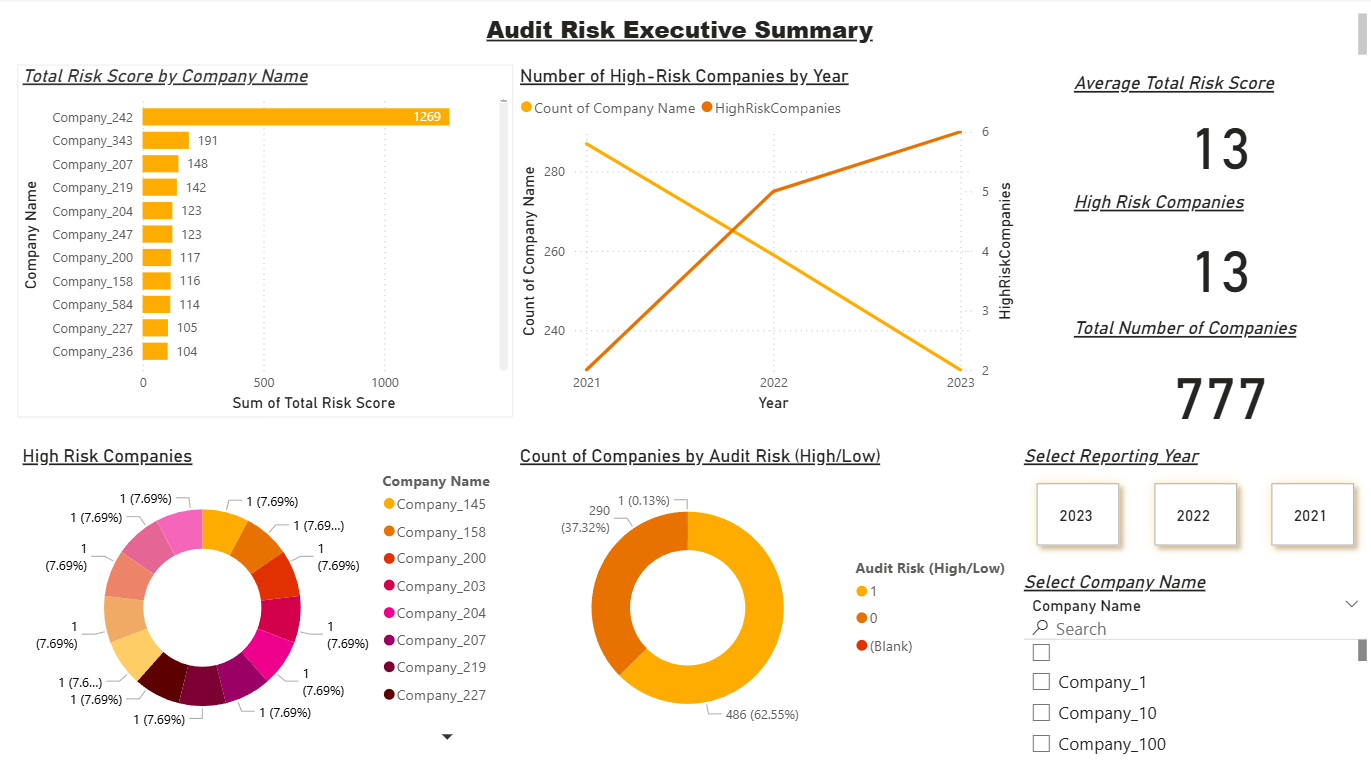

The dashboard page shown, as its layout file describes it:
{"tool":"powerbi","page":{"name":"Executive Summary","canvas":[1280,720],"ordinal":0},"visuals":[{"type":"barChart","title":"Total Risk Score by Company Name","fields":{"Category":["enhanced_audit_dataset.Company Name"],"Y":["Sum(enhanced_audit_dataset.Total Risk Score)"]},"box":[19.8,62.8,461.6,327.9],"z":0},{"type":"slicer","title":"Select Company Name","fields":{"Values":["enhanced_audit_dataset.Company Name"]},"box":[951.2,533.7,329.1,186],"z":1000},{"type":"advancedSlicerVisual","title":"Select Reporting Year","fields":{"Values":["enhanced_audit_dataset.Year"]},"box":[951.2,416.3,329.1,111.6],"z":2000},{"type":"textbox","box":[0,10.5,1280.2,52.3],"z":3000},{"type":"card","title":"Average Total Risk Score","fields":{"Values":["Avg(enhanced_audit_dataset.Total Risk Score)"]},"box":[997.7,69.8,282.6,110.5],"z":4000},{"type":"card","title":"High Risk Companies","fields":{"Values":["enhanced_audit_dataset.HighRiskCompanies"]},"box":[997.7,180.2,282.6,117.4],"z":5000},{"type":"card","title":"Total Number of  Companies","fields":{"Values":["Count(enhanced_audit_dataset.Company Name)"]},"box":[997.7,297.7,282.6,118.6],"z":6000},{"type":"donutChart","title":"High Risk Companies ","fields":{"Category":["enhanced_audit_dataset.Company Name"],"Y":["enhanced_audit_dataset.HighRiskCompanies"]},"box":[19.8,416.3,462.8,284.9],"z":7000},{"type":"lineChart","title":"Number of High-Risk Companies by Year","fields":{"Category":["enhanced_audit_dataset.Year"],"Y":["Count(enhanced_audit_dataset.Company Name)"],"Y2":["enhanced_audit_dataset.HighRiskCompanies"]},"box":[482.6,62.8,468.6,327.9],"z":8000},{"type":"donutChart","title":"Count of Companies by Audit Risk (High/Low)","fields":{"Category":["enhanced_audit_dataset.Audit Risk (High/Low)"],"Y":["Count(enhanced_audit_dataset.Company Name)"]},"box":[483,416,468,285],"z":9000}]}

Visuals, with their boxes in screenshot pixels (x1, y1, x2, y2), scaled from the page's 1280x720 canvas onto the 1371x771 screenshot:
"Total Risk Score by Company Name" barChart: 21, 67, 516, 418
"Select Company Name" slicer: 1019, 572, 1370, 770
"Select Reporting Year" advancedSlicerVisual: 1019, 446, 1370, 565
textbox: 0, 11, 1370, 67
"Average Total Risk Score" card: 1069, 75, 1370, 193
"High Risk Companies" card: 1069, 193, 1370, 319
"Total Number of  Companies" card: 1069, 319, 1370, 446
"High Risk Companies " donutChart: 21, 446, 517, 751
"Number of High-Risk Companies by Year" lineChart: 517, 67, 1019, 418
"Count of Companies by Audit Risk (High/Low)" donutChart: 517, 445, 1019, 751
